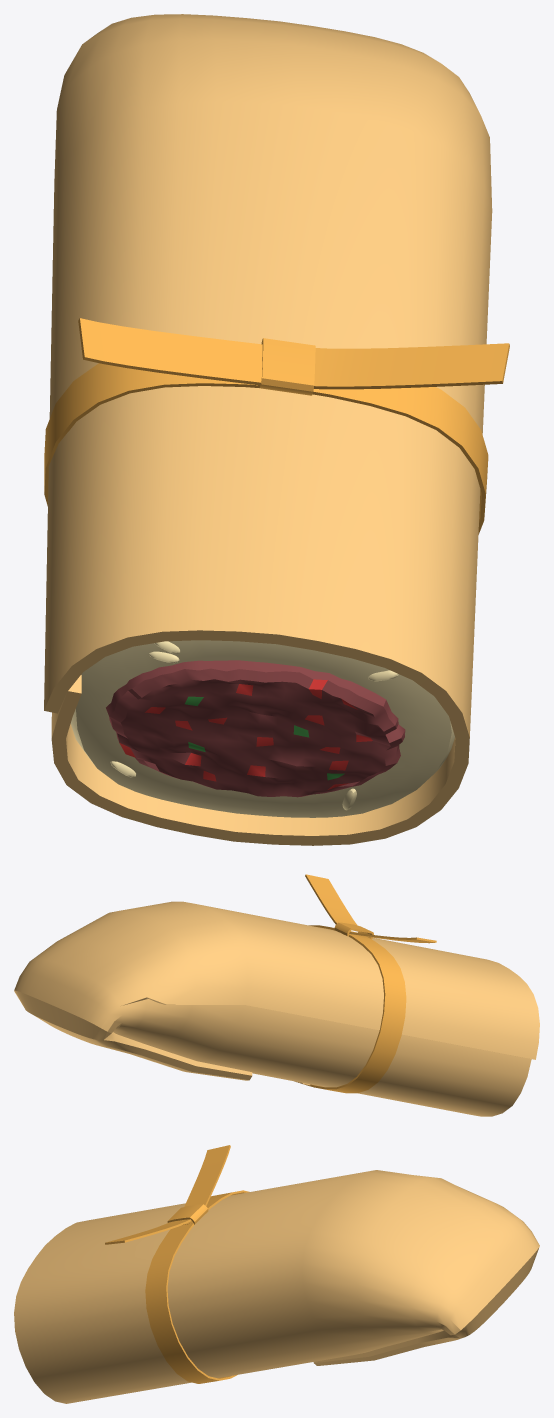
Rendered from tamale.glb.
The picture shows the model from 3 angles, top to bottom: view 1: azimuth 30°, elevation 25°; view 2: azimuth 150°, elevation 25°; view 3: azimuth 270°, elevation 25°; orthographic projection. The views are drawn at different scales.
Visible parts, largest first — view 1: Cylinder.350; view 2: Cylinder.350; view 3: Cylinder.350.
Boxes of the visible parts, bbox=[...] form: Cylinder.350: bbox=[44, 14, 509, 845]; Cylinder.350: bbox=[14, 874, 539, 1116]; Cylinder.350: bbox=[14, 1145, 539, 1403].
Bounding box in the file's own units: 2.3 × 1.59 × 2.88.
Materials: 1 (1 with a texture image).
